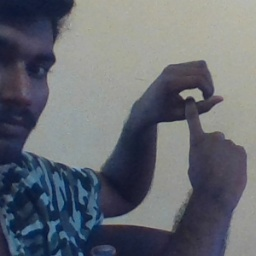Q: (136, 57, 250, 182)
